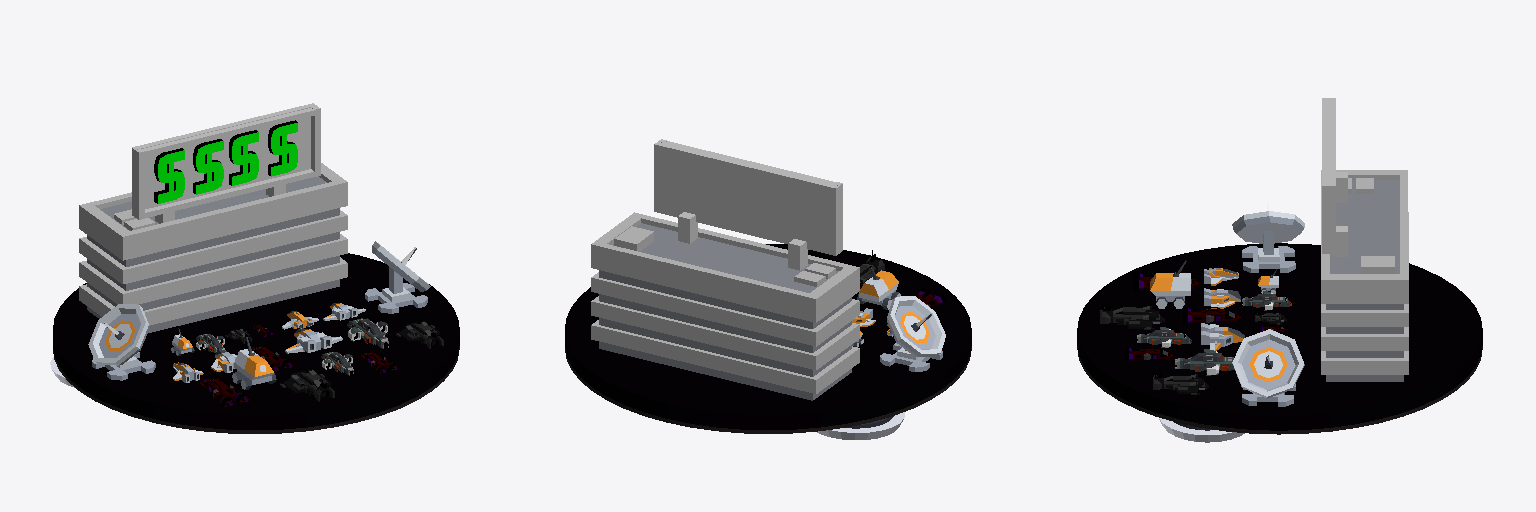
3 renders of one model, left to right at view 1: azimuth 30°, elevation 25°; view 2: azimuth 150°, elevation 25°; view 3: azimuth 270°, elevation 25°, orthographic.
Parts seen in each view (by area): view 1: base, low_wideA, Cube.002, satelliteDish, satelliteDish.001, Cube.005, Cube.006, dollar, dollar.001, dollar.002, dollar.003, rover.001 (+8 smaller); view 2: low_wideA, base, Cube.002, satelliteDish, rover.001, Cube, Cube.001; view 3: base, low_wideA, satelliteDish.001, satelliteDish, rover.001, ship_2.001, Cube.002, ship_3.001, ship_2.002, craft_speederC.001, ship_1.002, ship_3.002 (+3 smaller).
Part boxes in pixels (left/top/right/bottom): base: left=50, top=253, right=459, bottom=433; low_wideA: left=79, top=163, right=347, bottom=332; Cube.002: left=132, top=103, right=316, bottom=216; satelliteDish: left=88, top=304, right=155, bottom=380; satelliteDish.001: left=365, top=241, right=430, bottom=313; Cube.005: left=143, top=108, right=314, bottom=156; Cube.006: left=145, top=169, right=314, bottom=217; dollar: left=154, top=148, right=184, bottom=203; dollar.001: left=193, top=139, right=223, bottom=194; dollar.002: left=229, top=130, right=258, bottom=185; dollar.003: left=268, top=120, right=297, bottom=176; rover.001: left=232, top=337, right=276, bottom=389; low_wideA: left=591, top=212, right=859, bottom=400; base: left=565, top=244, right=971, bottom=439; Cube.002: left=654, top=142, right=839, bottom=255; satelliteDish: left=880, top=296, right=945, bottom=371; rover.001: left=857, top=267, right=900, bottom=309; Cube: left=788, top=239, right=807, bottom=270; Cube.001: left=678, top=212, right=697, bottom=243; base: left=1077, top=243, right=1482, bottom=442; low_wideA: left=1321, top=170, right=1408, bottom=381; satelliteDish.001: left=1232, top=329, right=1304, bottom=406; satelliteDish: left=1232, top=203, right=1304, bottom=272; rover.001: left=1150, top=260, right=1190, bottom=308; ship_2.001: left=1100, top=302, right=1164, bottom=329; Cube.002: left=1329, top=98, right=1335, bottom=253; ship_3.001: left=1175, top=349, right=1234, bottom=375; ship_2.002: left=1153, top=370, right=1208, bottom=394; craft_speederC.001: left=1201, top=323, right=1244, bottom=350; ship_1.002: left=1183, top=307, right=1240, bottom=323; ship_3.002: left=1137, top=327, right=1191, bottom=347.
Bounding box in the file's own units: 3.88 × 2.34 × 3.86.
Materials: 122 (1 with a texture image).